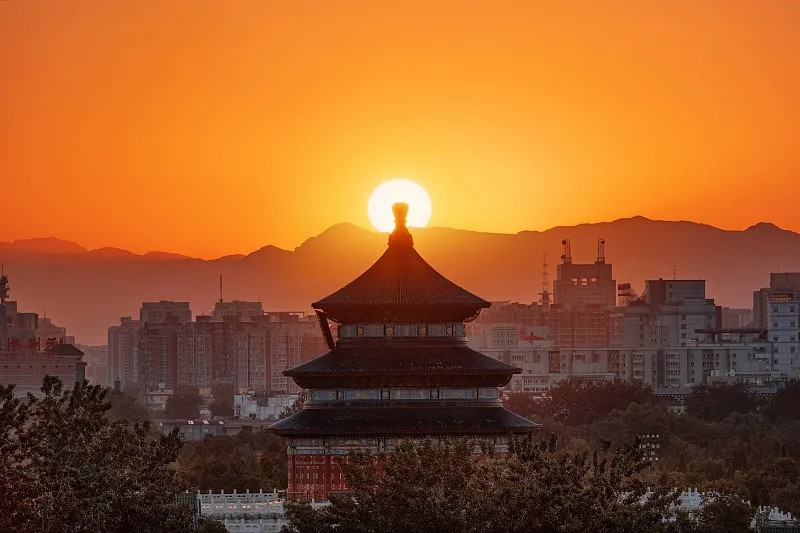Heaven: (267, 204, 542, 517)
